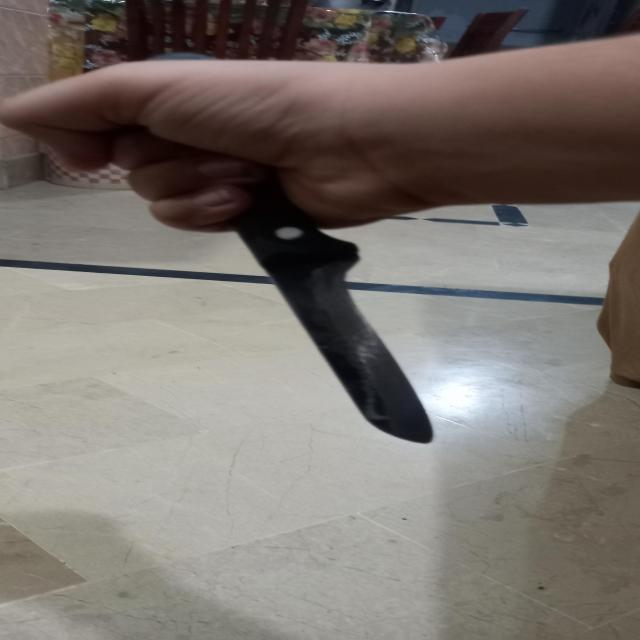Knife: (25, 78, 441, 450)
